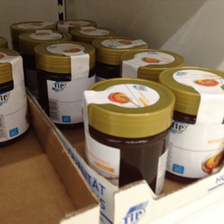honey: (85, 76, 176, 212), (162, 70, 224, 184), (31, 42, 100, 129)
